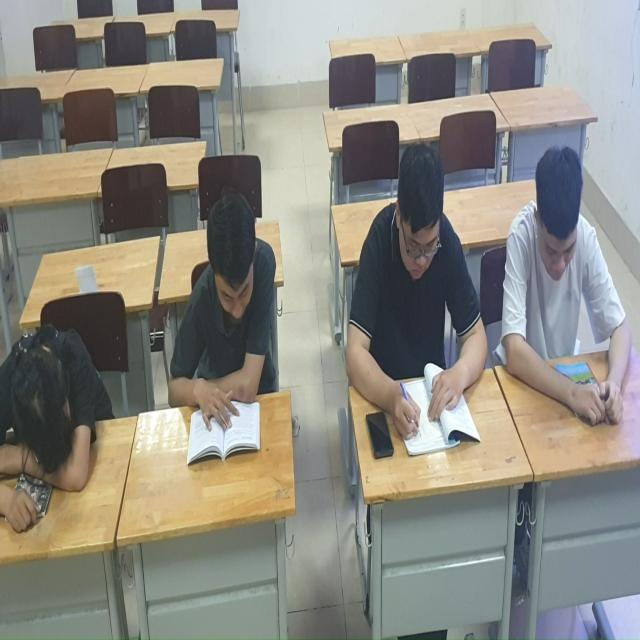read: (345, 140, 491, 467), (500, 120, 640, 434), (170, 182, 283, 470)
sleep: (1, 314, 114, 543)
